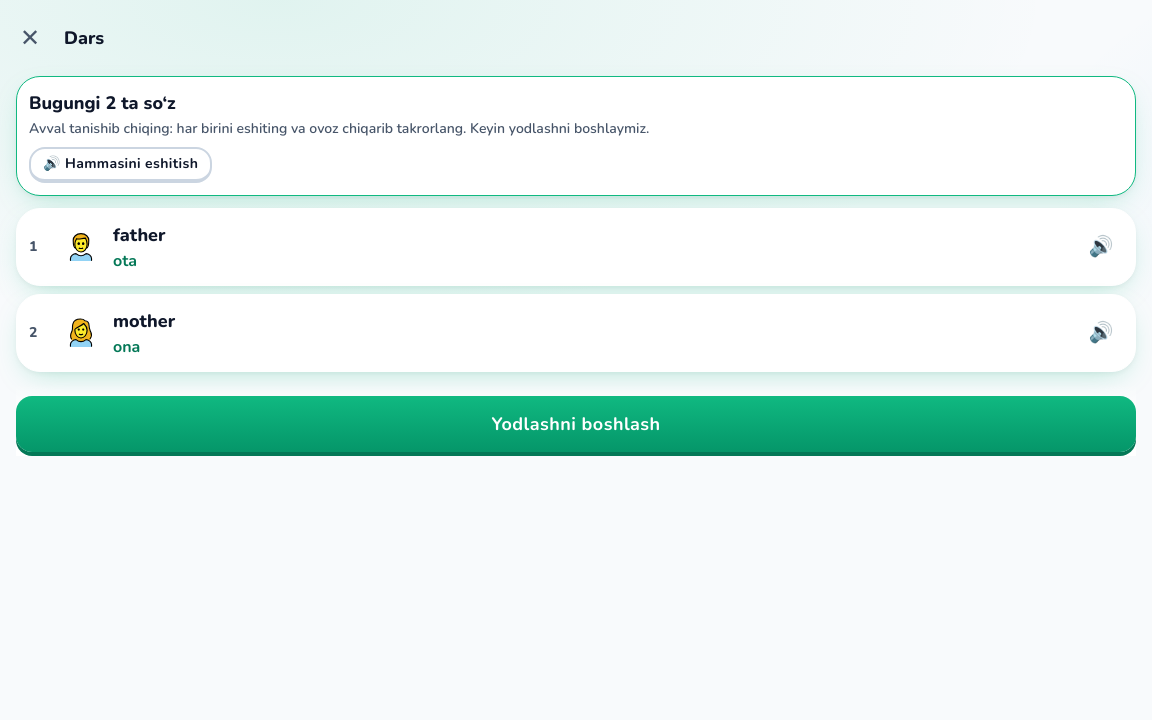
Scenario: LessonScreen — bo‘lim bo‘yicha dars › faqat o‘sha bo‘lim so‘zlarini beradi
What coordinates should you click on to do the following:
click the button with test id "preview-start"
I would click on:
 (576, 424)
Its box is [16,396,1136,452].
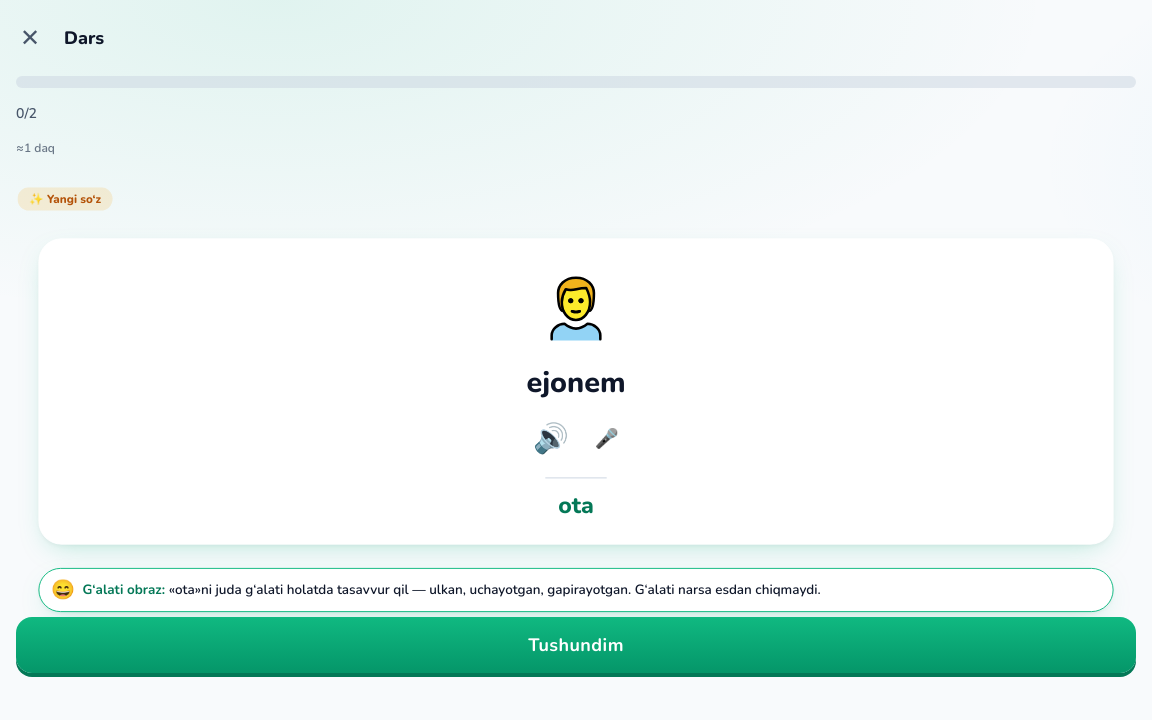
Check: the text with test id "session-progress" reads "0/2", box [16,104,37,123]
